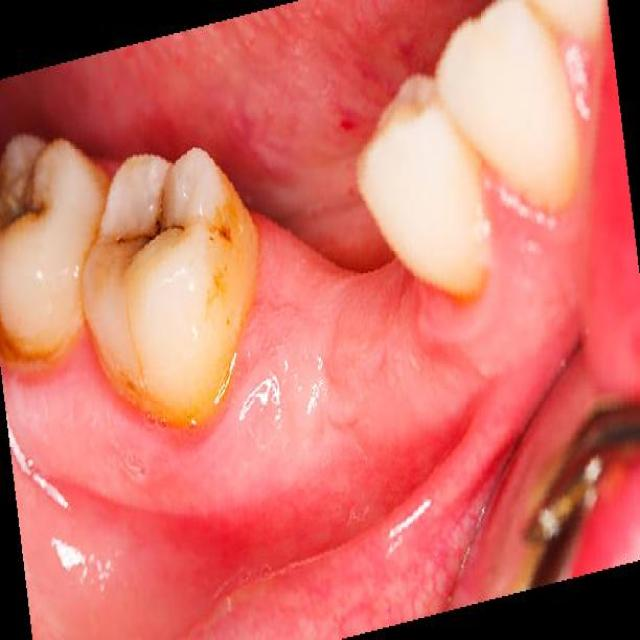caries: (0, 155, 59, 251)
